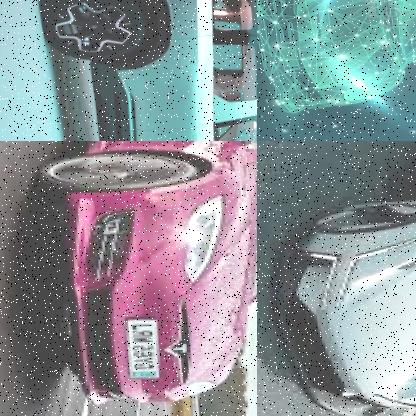car: (49, 141, 257, 405), (268, 141, 416, 416), (37, 0, 257, 141), (257, 0, 416, 115)
